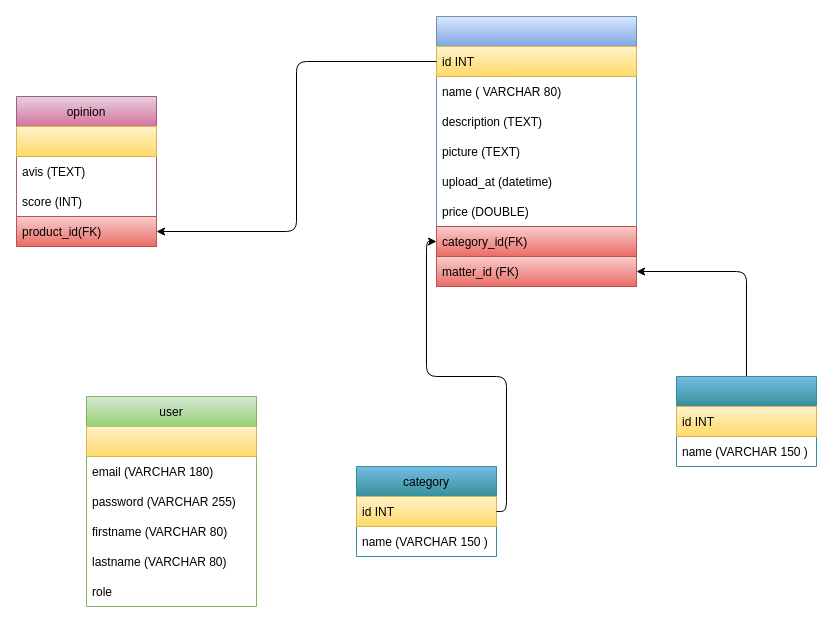
The diagram is 833 pixels wide and 623 high, and some of its shapes have lost their labels. The box of each missing label's shape, as (x1, y1, x2, y2) in pixels:
id (INT): (86, 426, 256, 456)
id [INT]: (16, 126, 156, 156)
matter: (676, 376, 816, 466)
product: (436, 16, 636, 286)
